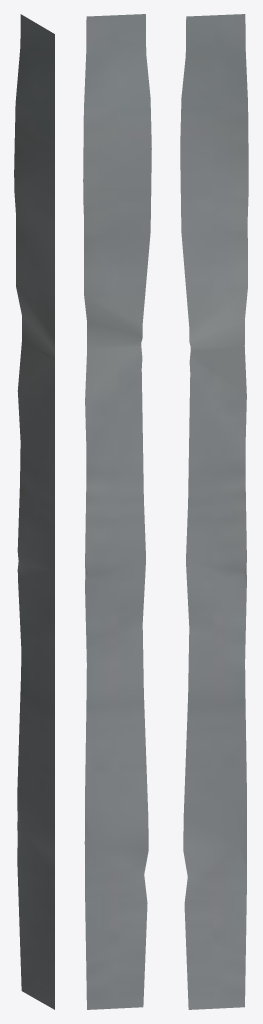
3 renders of one model, left to right at view 1: azimuth 90°, elevation 25°; view 2: azimuth 150°, elevation 25°; view 3: azimuth 330°, elevation 25°, orthographic.
Bounding box in the file's own units: 0.1145 × 2.27 × 0.0858.
1 material, 1 textured.
